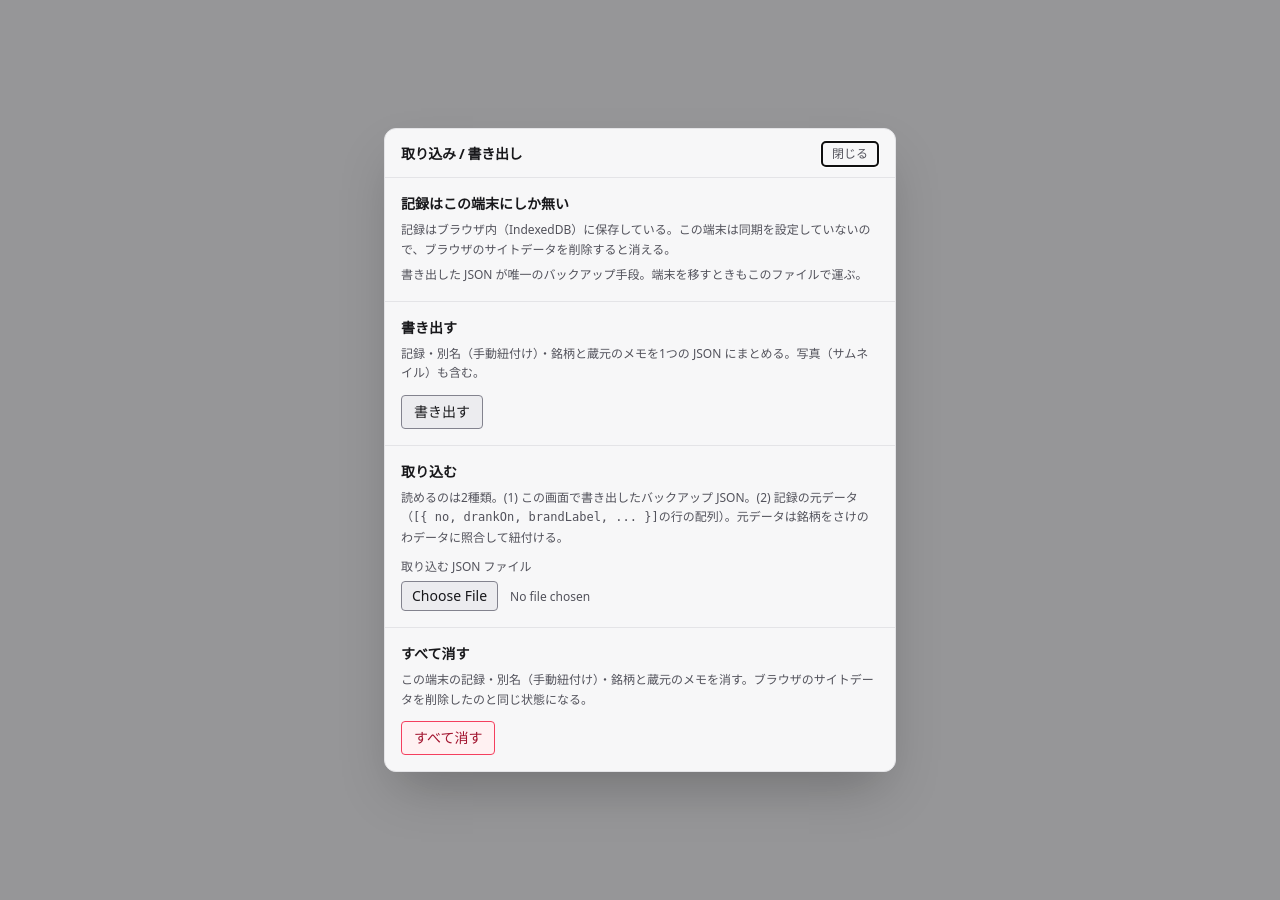
Scenario: ImportExportPanel との配線 › 起点を書けなかったら、書き出しの成功と一緒にそれを言う(無音にしない)
Click the button "書き出す". click: (442, 412)
box: [401,394,483,428]
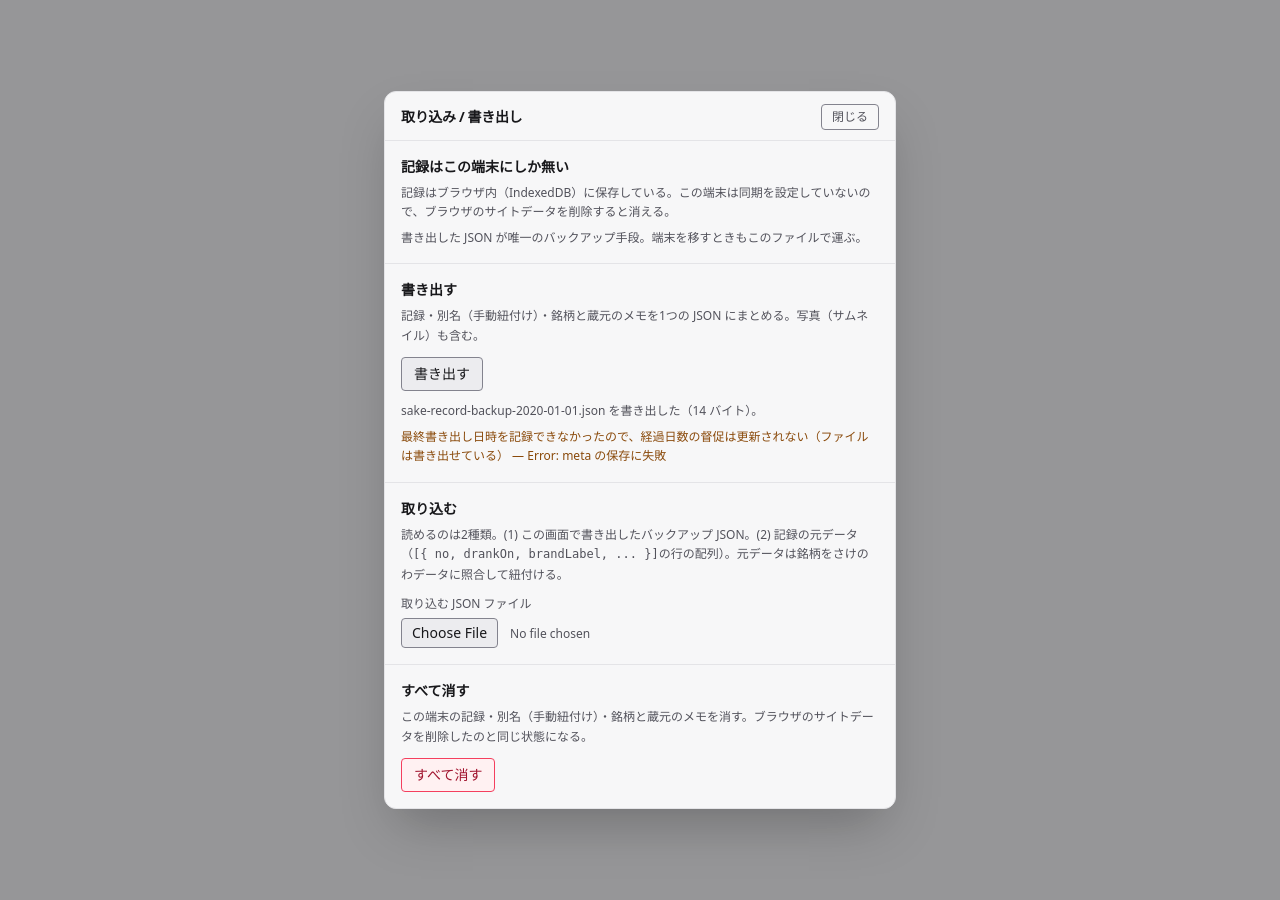
Expected: the text "sake-record-backup-2020-01-01.json を書き出した（14 バイト）。" is shown, [401,402,763,419]
Expected: the text "督促は更新されない" is shown, [401,428,868,464]
